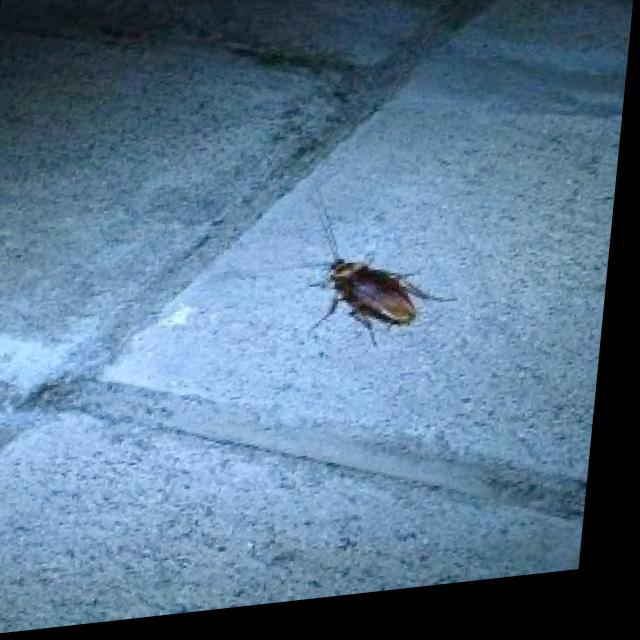cockroach: (302, 250, 456, 350)
